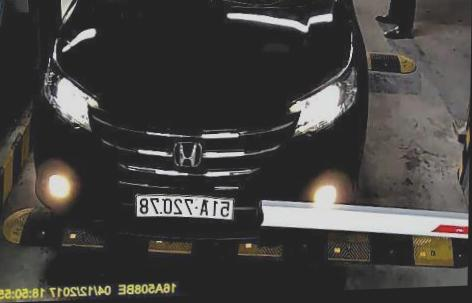License_Plate: (135, 188, 234, 223)
